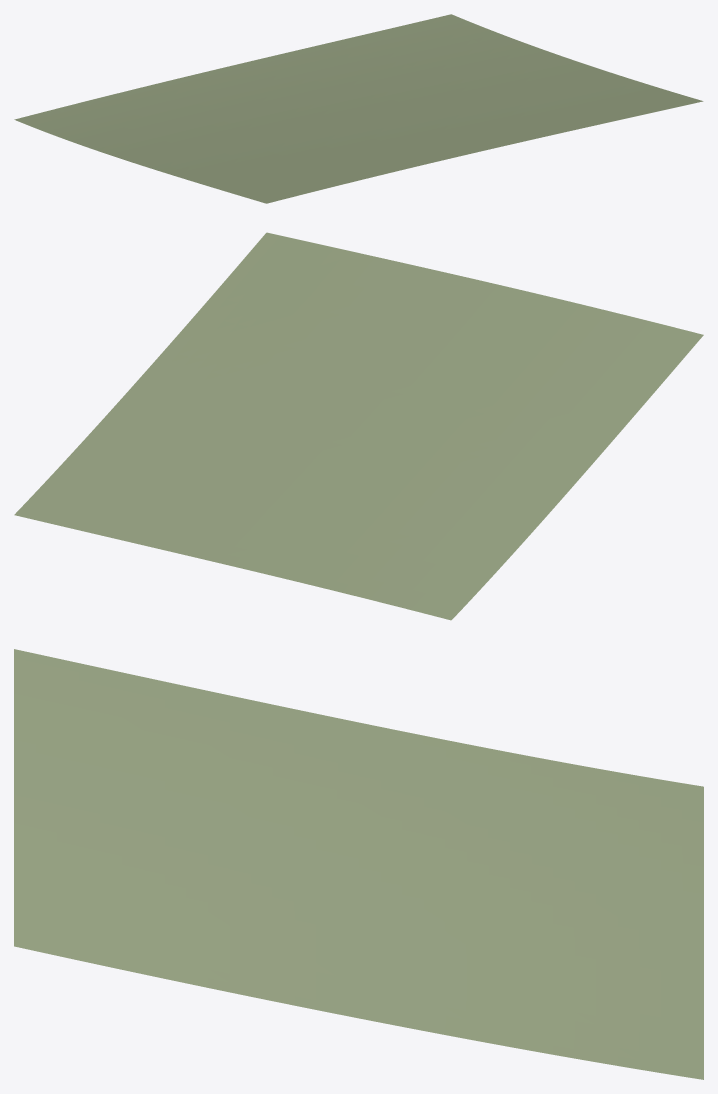
Rendered from expanse-29-4.glb.
3 views of the same model, one above another, from view 1: azimuth 30°, elevation 25°; view 2: azimuth 150°, elevation 25°; view 3: azimuth 270°, elevation 25° (orthographic). The views are drawn at different scales.
Parts seen in each view (by area): view 1: expanse-29-4; view 2: expanse-29-4; view 3: expanse-29-4.
Part boxes in pixels (x1,y1,x2,y2): expanse-29-4: (14, 14, 703, 203); expanse-29-4: (14, 232, 703, 620); expanse-29-4: (14, 649, 703, 1079).
Bounding box in the file's own units: 256 × 57.43 × 256.
